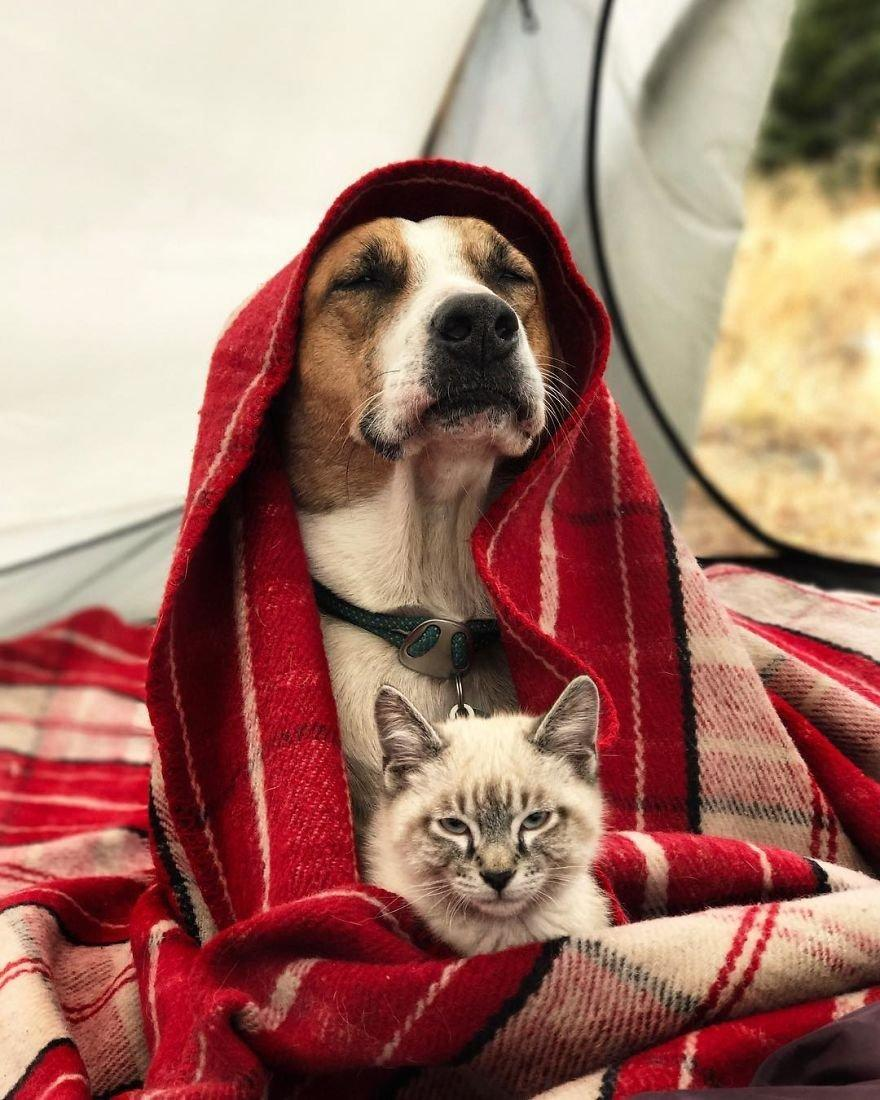animals: (290, 217, 575, 565), (353, 673, 655, 987)
